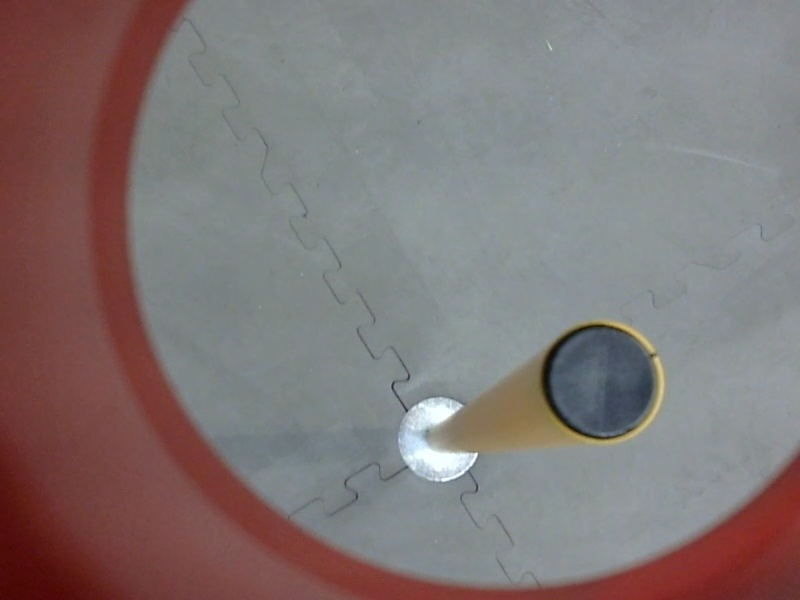tip: (532, 311, 672, 452)
